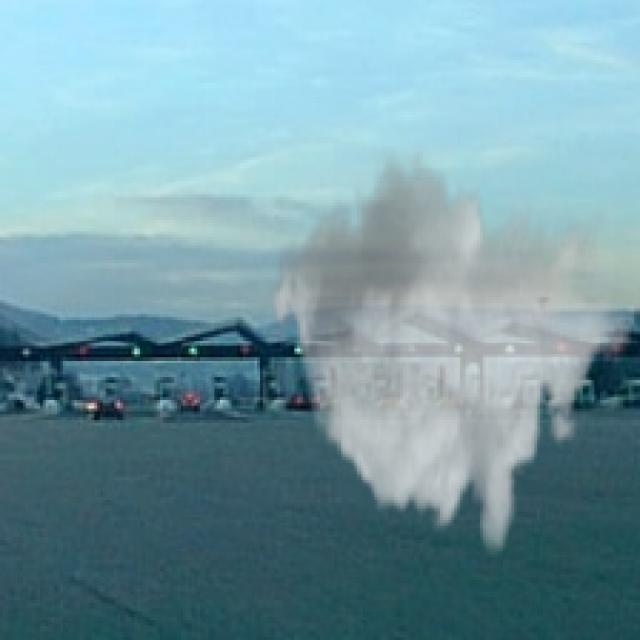Smoke: (268, 145, 634, 560)
